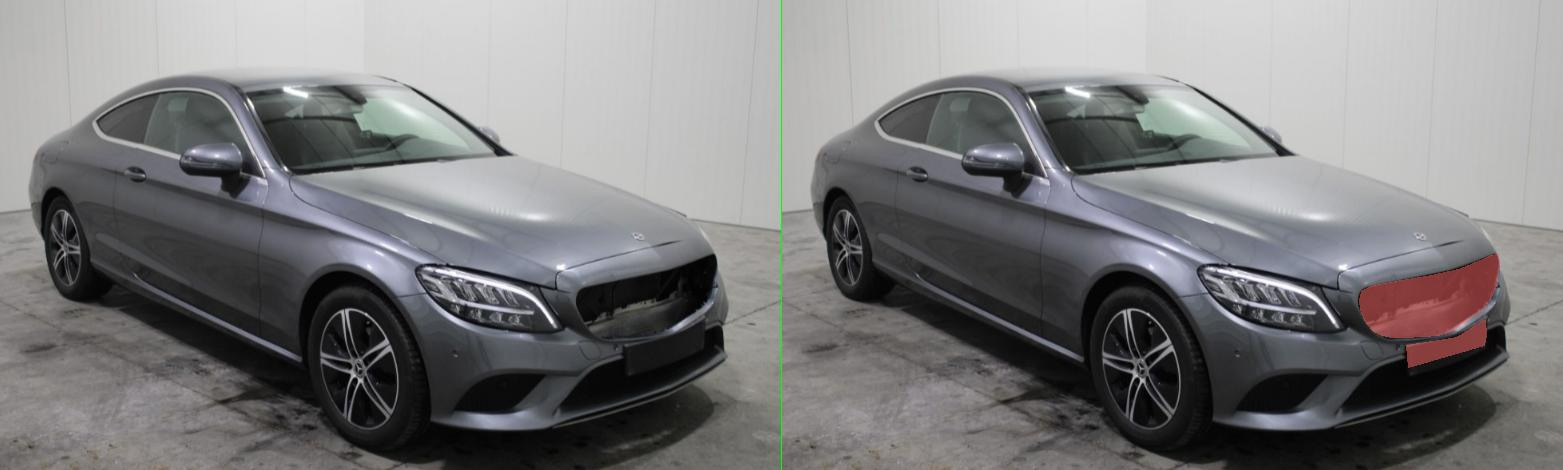Missing part: (1155, 254, 1435, 337), (1249, 319, 1409, 367)
